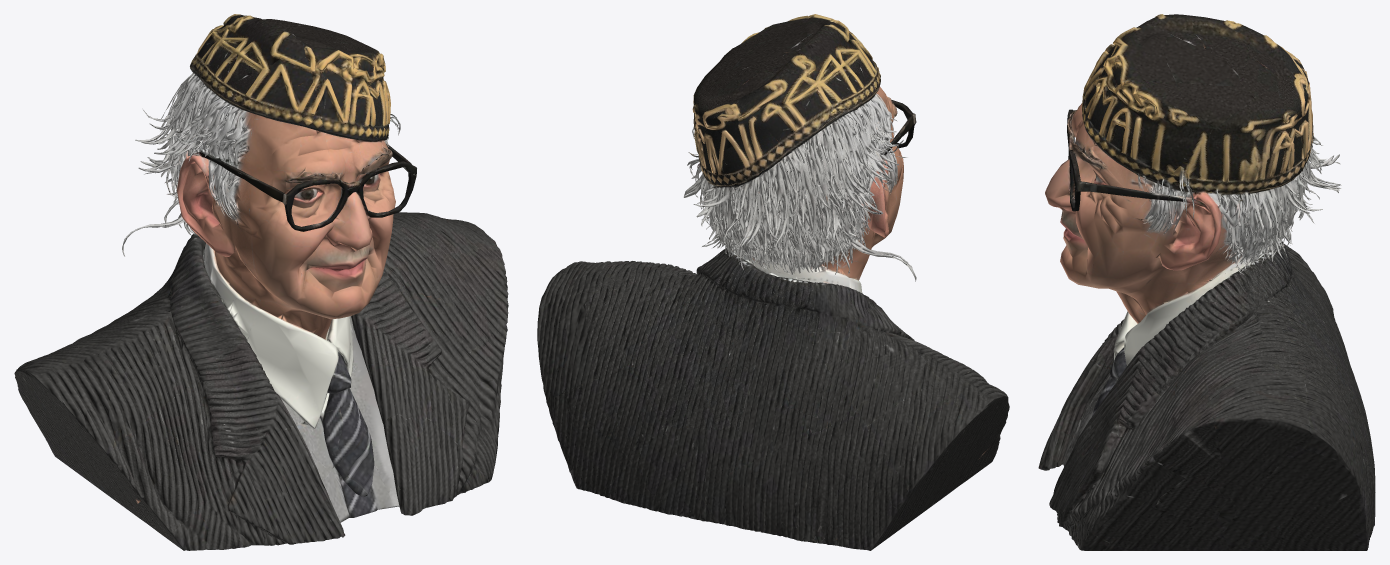
The model's file is jawahiri.glb.
The picture shows the model from 3 angles, left to right: view 1: azimuth 30°, elevation 25°; view 2: azimuth 150°, elevation 25°; view 3: azimuth 270°, elevation 25°; orthographic projection. The views are drawn at different scales.
Parts seen in each view (by area): view 1: character; view 2: character; view 3: character.
Boxes of the visible parts, x1,y1,x2,y2 form: character: [14, 14, 508, 550]; character: [537, 14, 1009, 550]; character: [1038, 14, 1375, 550].
Bounding box in the file's own units: 1.9 × 1.83 × 1.23.
Materials: 1 (1 with a texture image).
